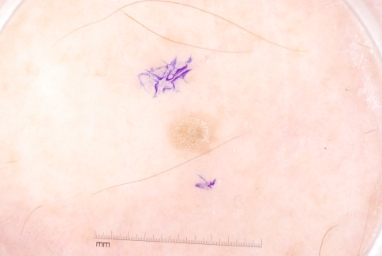seborrheic keratosis: (155, 106, 224, 159)
